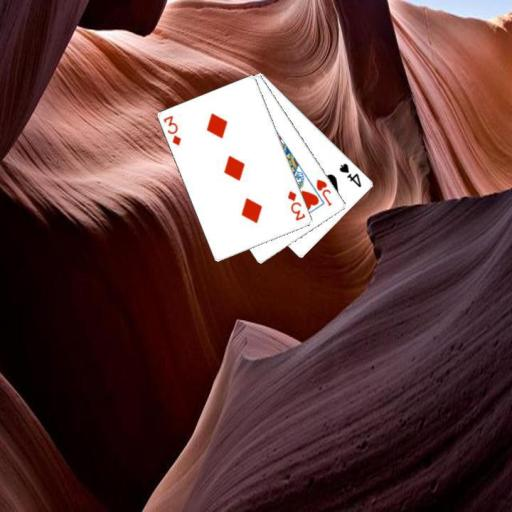3D: (285, 188, 308, 223), (160, 113, 183, 148)
4S: (336, 160, 363, 188)
JH: (313, 176, 333, 208)
